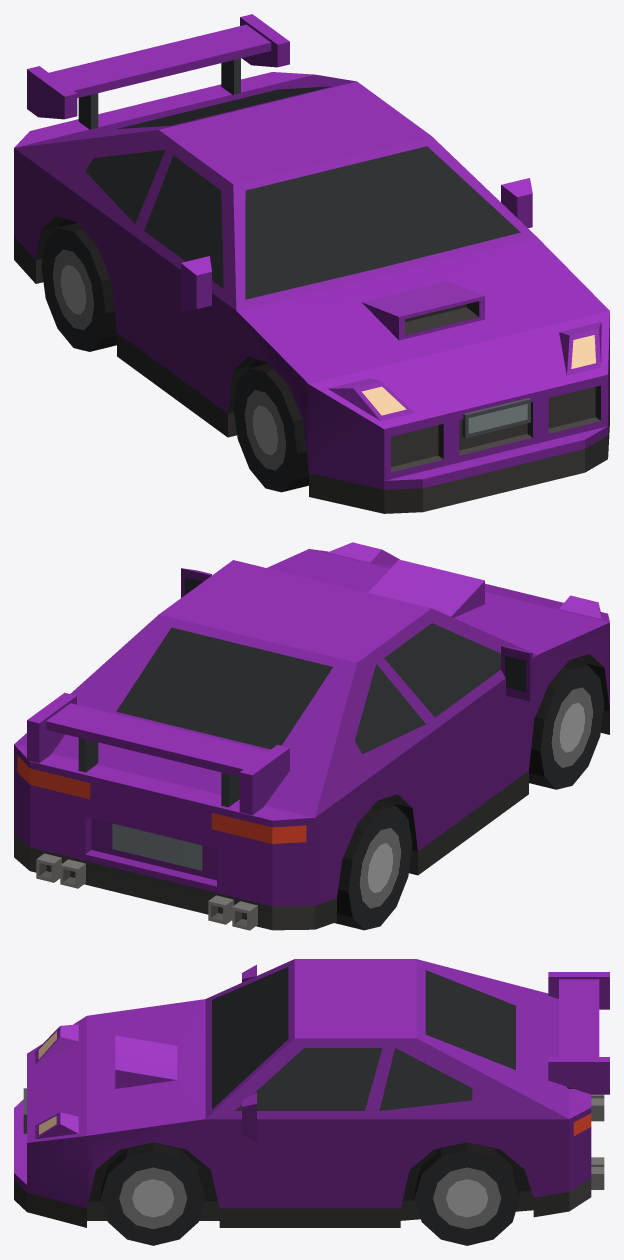
The model's file is street_car.glb.
The picture shows the model from 3 angles, top to bottom: view 1: azimuth 30°, elevation 25°; view 2: azimuth 150°, elevation 25°; view 3: azimuth 270°, elevation 25°; orthographic projection. The views are drawn at different scales.
Parts seen in each view (by area): view 1: SR_Veh_StreetCar_Purple, SR_Veh_Wheel_RR, SR_Veh_Wheel_FR; view 2: SR_Veh_StreetCar_Purple, SR_Veh_Wheel_RR, SR_Veh_Wheel_FR; view 3: SR_Veh_StreetCar_Purple, SR_Veh_Wheel_RL, SR_Veh_Wheel_FL.
Part boxes in pixels (x1,y1,x2,y2): SR_Veh_StreetCar_Purple: (14,14,609,513); SR_Veh_Wheel_RR: (41,223,116,351); SR_Veh_Wheel_FR: (233,363,308,492); SR_Veh_StreetCar_Purple: (14,542,609,930); SR_Veh_Wheel_RR: (335,801,412,930); SR_Veh_Wheel_FR: (529,661,604,789); SR_Veh_StreetCar_Purple: (14,959,609,1227); SR_Veh_Wheel_RL: (414,1142,519,1245); SR_Veh_Wheel_FL: (101,1142,205,1245).
Size of the model in its own units: 0.8579 by 0.5345 by 1.55.
1 material, 1 textured.
